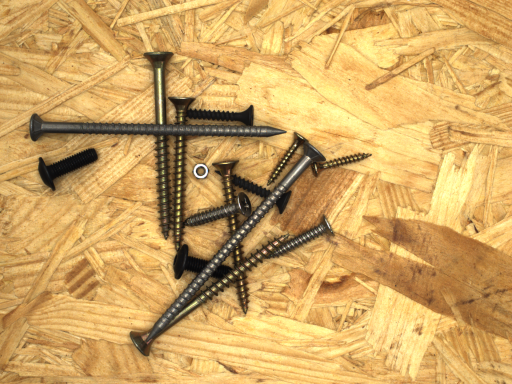screw_long: (119, 124, 344, 369), (18, 104, 301, 153)
